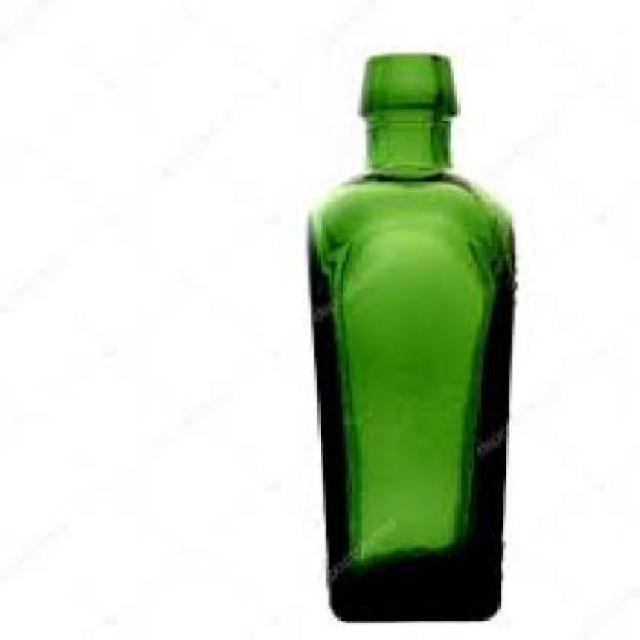kaca: (306, 51, 516, 618)
